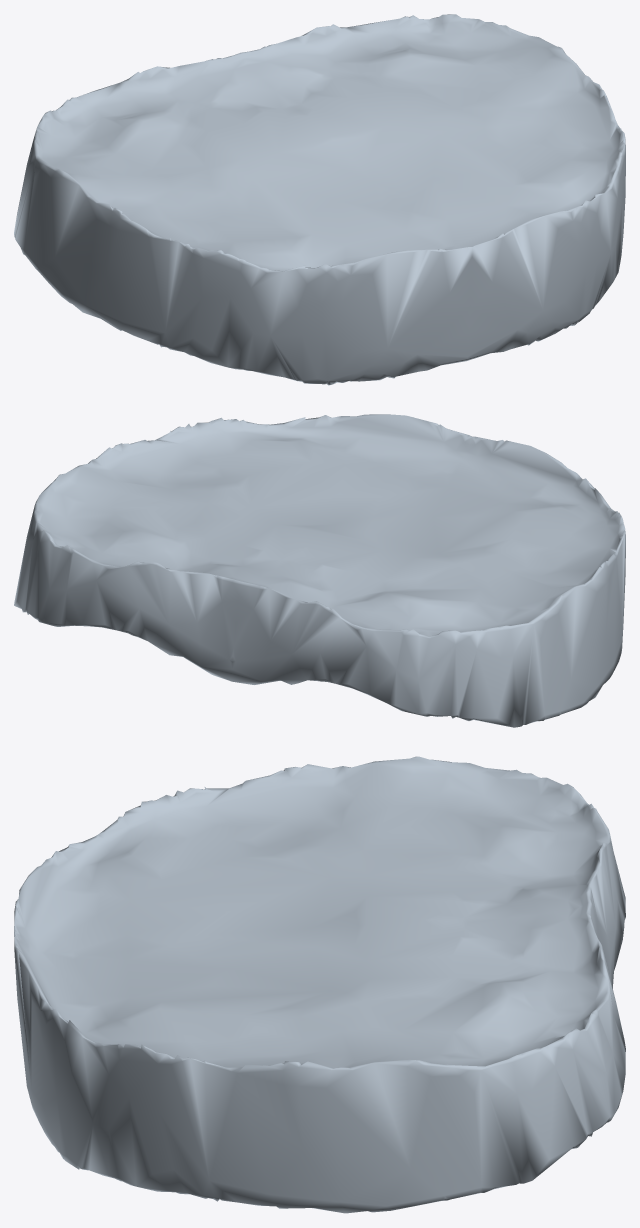
Rendered from intervertebral-disc-l3-l4.glb.
3 renders of one model, top to bottom at view 1: azimuth 30°, elevation 25°; view 2: azimuth 150°, elevation 25°; view 3: azimuth 270°, elevation 25°, orthographic. The views are drawn at different scales.
Parts seen in each view (by area): view 1: Intervertebral disc L3-L4; view 2: Intervertebral disc L3-L4; view 3: Intervertebral disc L3-L4.
Part boxes in pixels (bbox=[...]): Intervertebral disc L3-L4: bbox=[14, 14, 625, 385]; Intervertebral disc L3-L4: bbox=[14, 414, 625, 727]; Intervertebral disc L3-L4: bbox=[14, 756, 625, 1213].
Size of the model in its own units: 0.0461 by 0.0128 by 0.0376.
